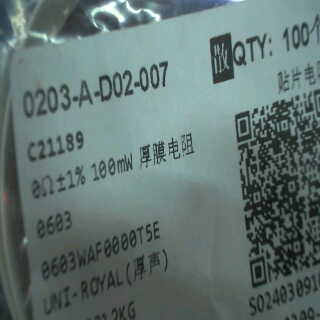0R: (29, 151, 137, 240)
